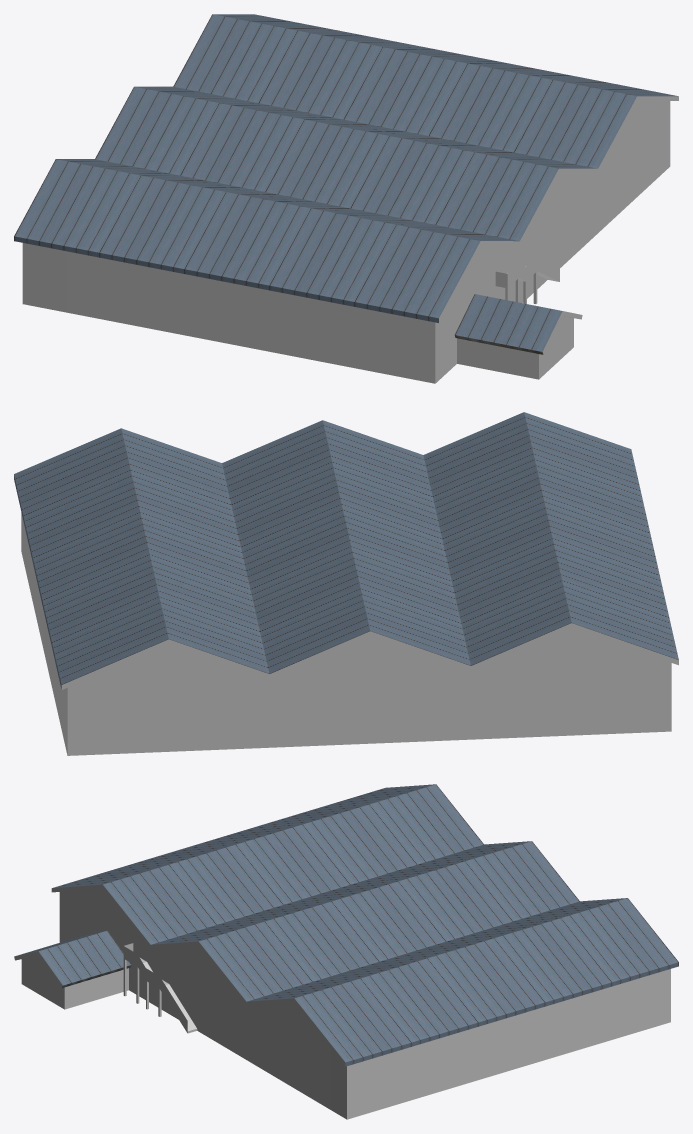
Rendered from SM_GenericBuilding_08.fbx.
The picture shows the model from 3 angles, top to bottom: view 1: azimuth 30°, elevation 25°; view 2: azimuth 150°, elevation 25°; view 3: azimuth 270°, elevation 25°; orthographic projection. The views are drawn at different scales.
Parts seen in each view (by area): view 1: SM_GenericBuilding_08; view 2: SM_GenericBuilding_08; view 3: SM_GenericBuilding_08.
Part boxes in pixels (left/top/right/bottom): SM_GenericBuilding_08: left=14, top=14, right=678, bottom=383; SM_GenericBuilding_08: left=14, top=412, right=678, bottom=755; SM_GenericBuilding_08: left=14, top=784, right=678, bottom=1119.
Size of the model in its own units: 2187 by 350 by 2238.
